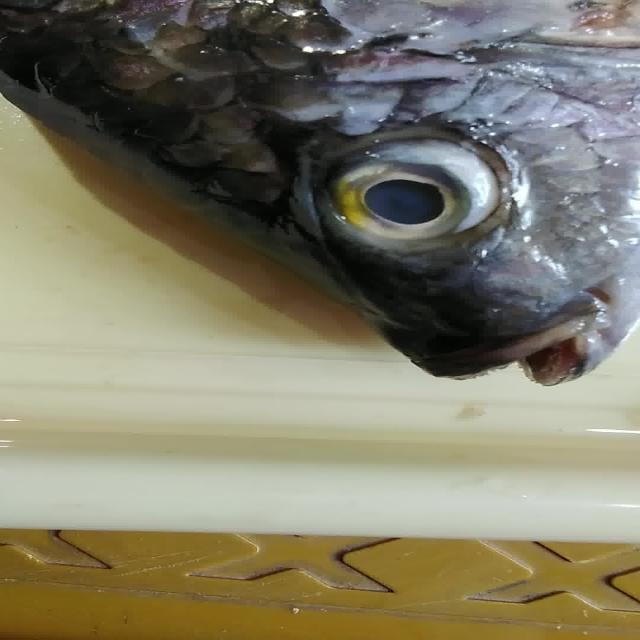Fresh: (294, 124, 534, 263)
